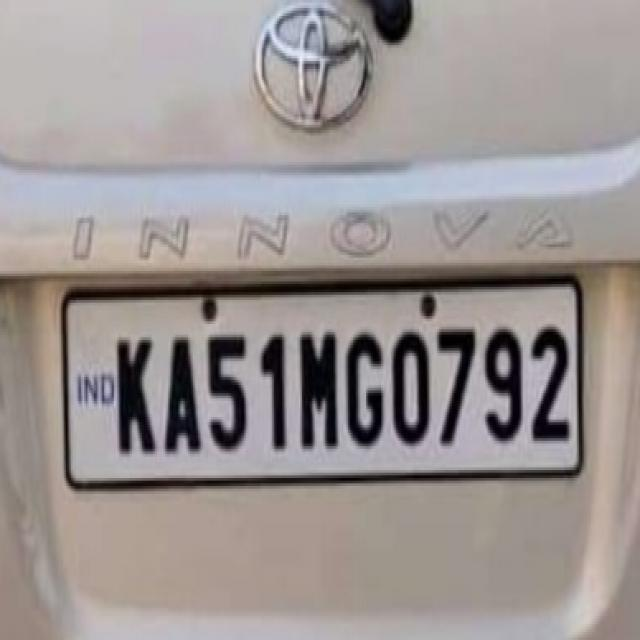0: (391, 325, 432, 452)
1: (256, 319, 294, 462)
5: (201, 324, 251, 454)
7: (435, 313, 481, 449)
9: (480, 322, 527, 448)
A: (159, 328, 202, 462)
G: (342, 330, 388, 455)
K: (108, 325, 159, 461)
M: (297, 324, 341, 458)
